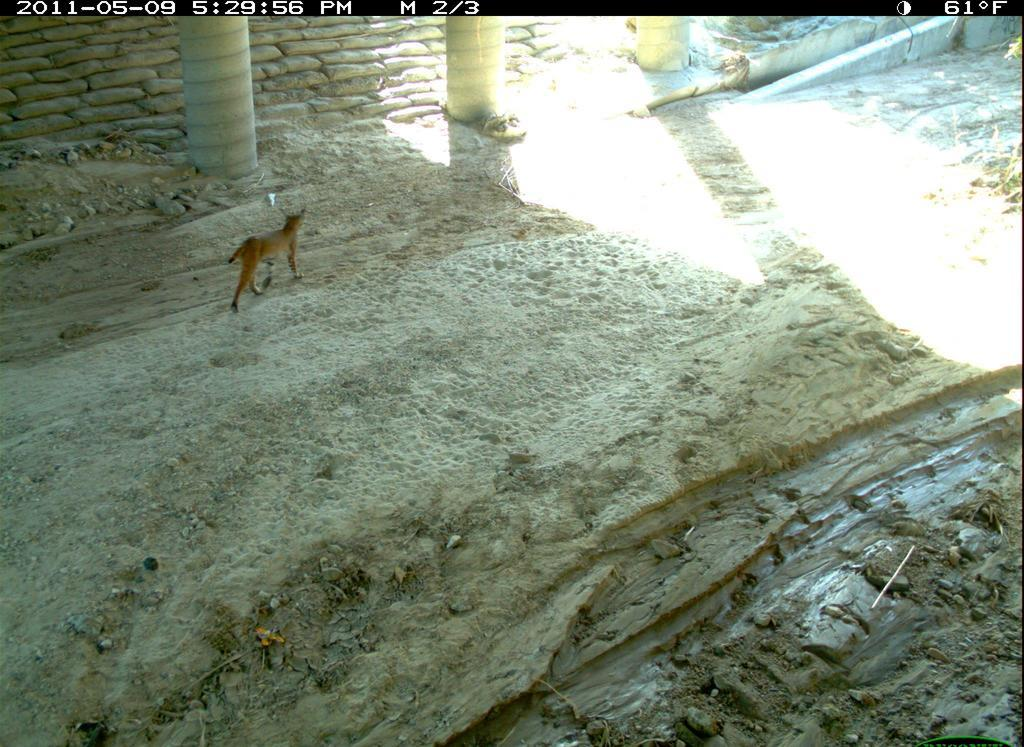bobcat: (225, 203, 312, 321)
